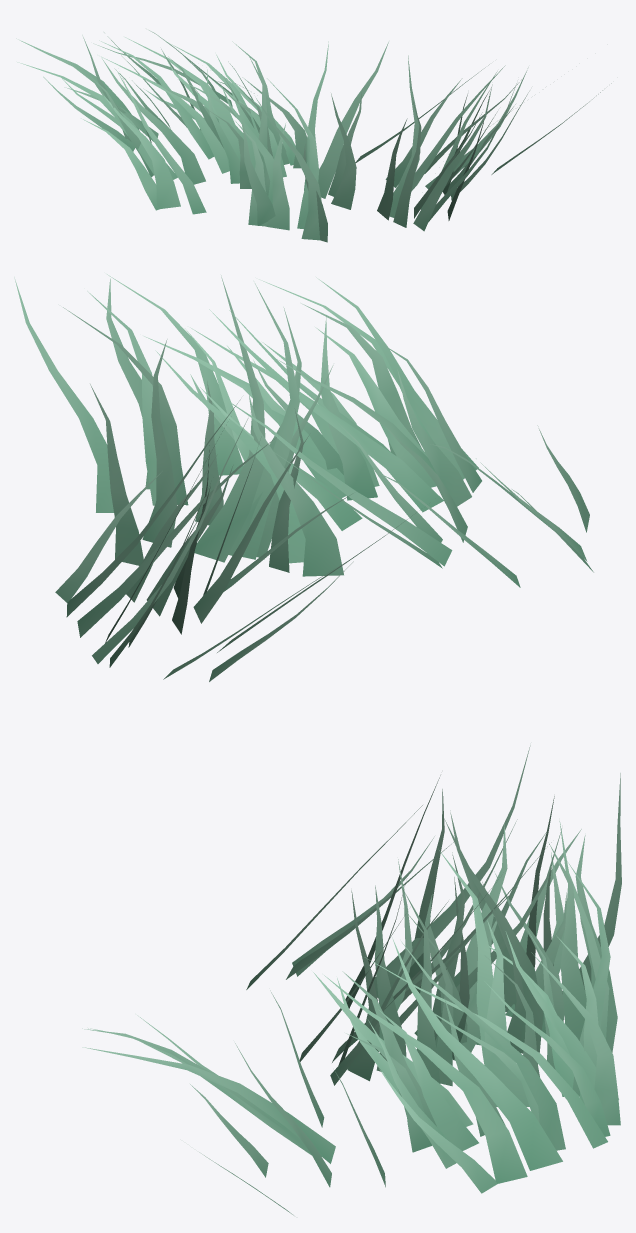
The model's file is mesh-plant-013-rust-tuft_LOD1.glb.
3 views of the same model, one above another, from view 1: azimuth 30°, elevation 25°; view 2: azimuth 150°, elevation 25°; view 3: azimuth 270°, elevation 25° (orthographic). The views are drawn at different scales.
Visible parts, largest first — view 1: geometry_0; view 2: geometry_0; view 3: geometry_0.
Boxes of the visible parts, box(x1,y1,x2,y2) form: geometry_0: box(16, 30, 611, 242); geometry_0: box(14, 274, 593, 681); geometry_0: box(82, 745, 621, 1215).
Size of the model in its own units: 1.63 by 0.3807 by 1.11.
